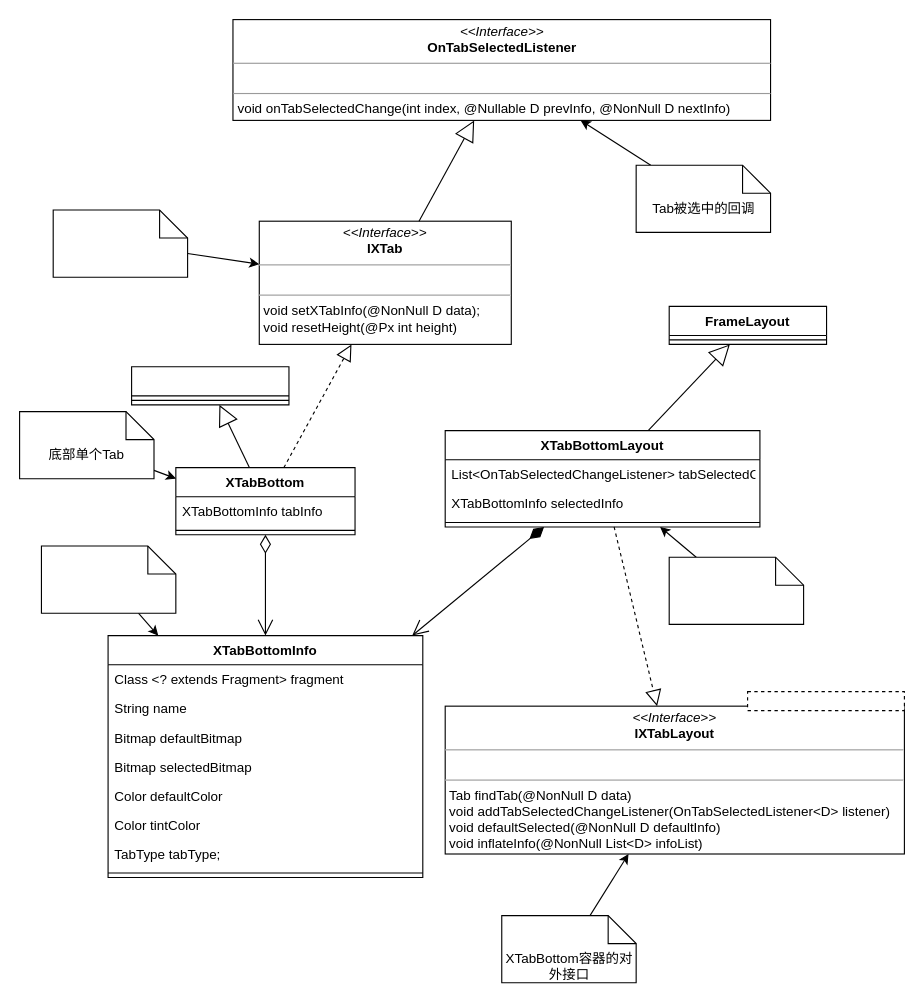
Some shapes in this 924 by 1004 pixel diagram are drawn without their labels. Each missing label, with the centre of its shape:
"RelativeLayout" goes at [209,385].
"Tab extends ViewGroup,D" goes at [825,700].
"XTabBottom容器控件" goes at [736,590].
"XTabBottom对外接口" goes at [120,243].
"单个Tab的数据模型" goes at [108,579].
